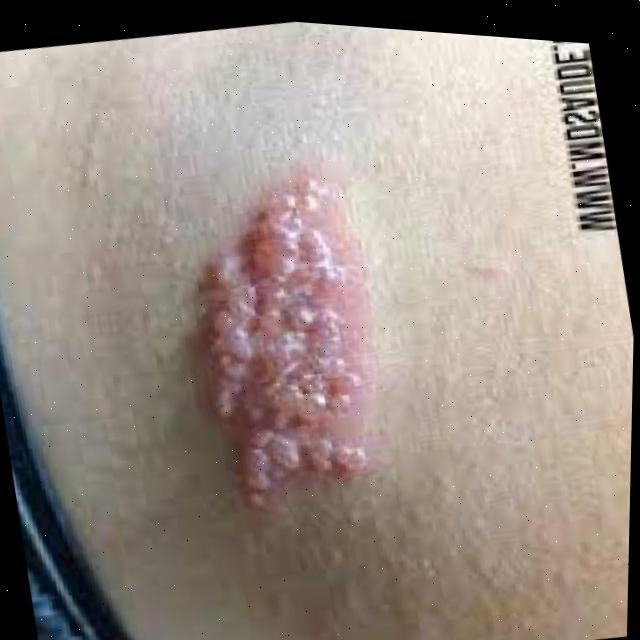Shingles: (182, 168, 380, 494)
